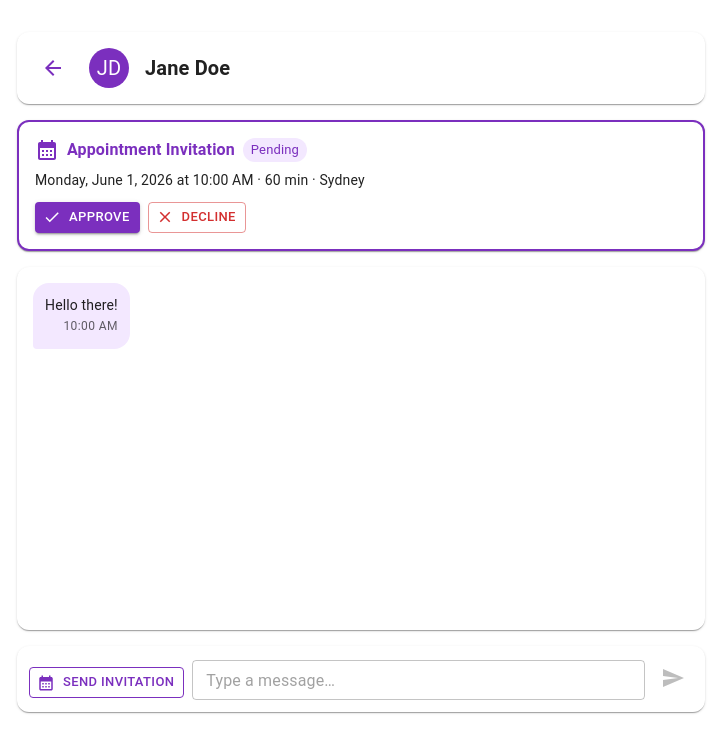
ConversationView › as a support worker › removes invitation card after approval
What coordinates should you click on to do the following:
click the button "Approve"
I would click on:
 (87, 217)
Its box is [35,202,140,233].
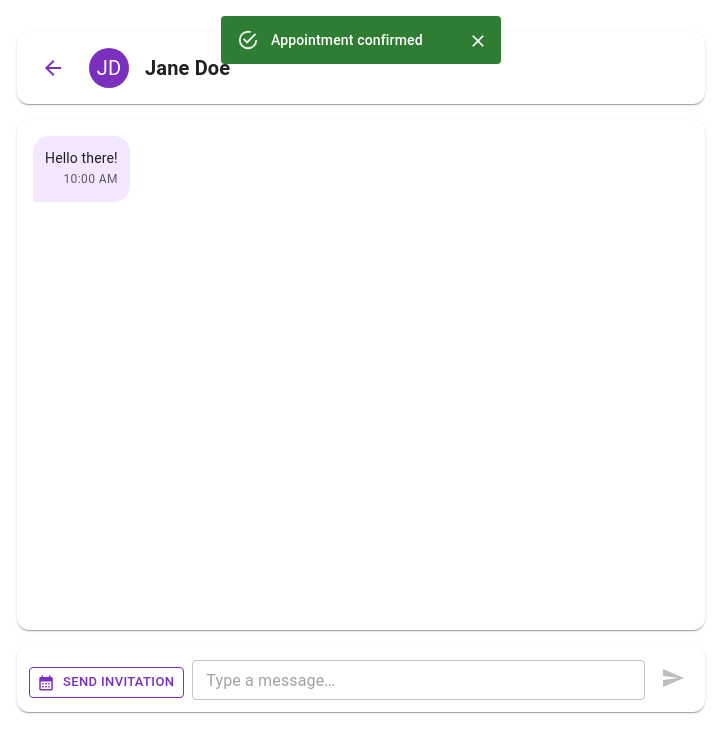
Expected: the text "Appointment Invitation" is gone
